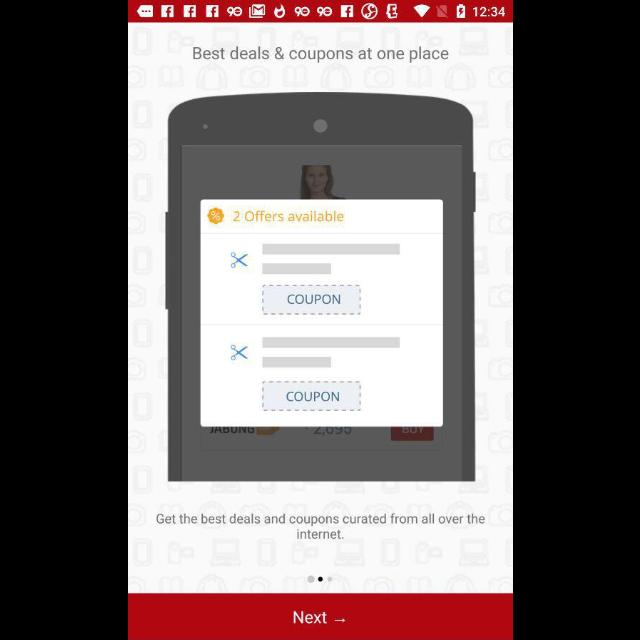image: (164, 92, 476, 482)
pageindicator: (306, 574, 332, 584)
text: (156, 513, 484, 539), (192, 46, 448, 64)
textbutton: (128, 592, 512, 640)
uppertaskbar: (128, 1, 512, 23)
